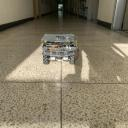cart: (42, 34, 77, 65)
